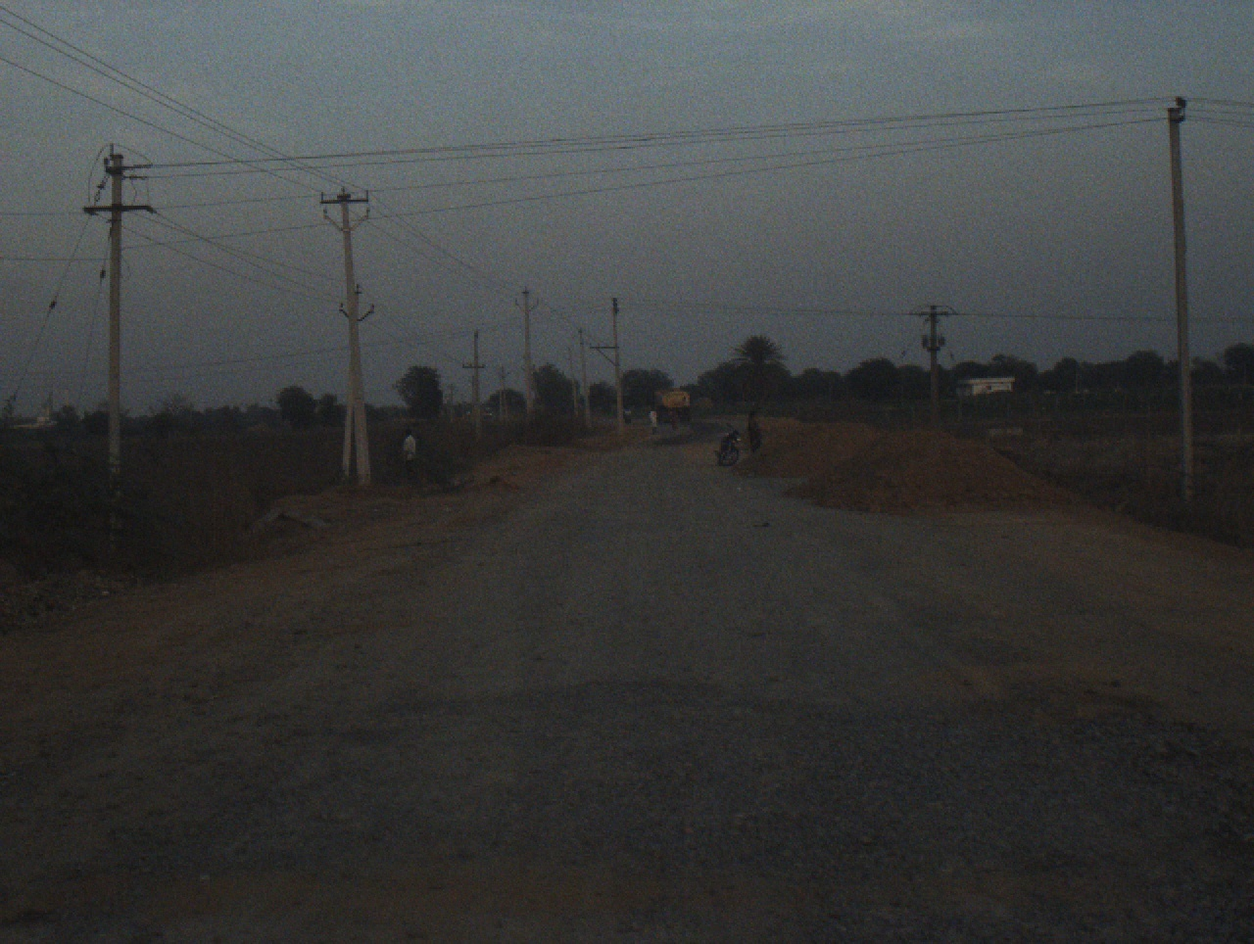motorcycle: (715, 418, 745, 472)
person: (746, 401, 764, 452), (401, 424, 420, 461), (644, 399, 660, 433), (671, 401, 683, 431)
truck: (654, 386, 696, 424)
